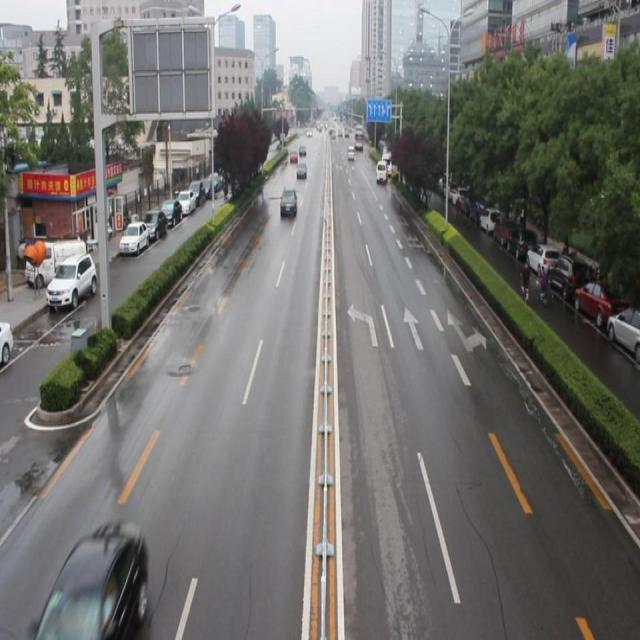car: (31, 520, 149, 640), (278, 185, 298, 214), (295, 159, 307, 180)
truck: (374, 160, 386, 183)
